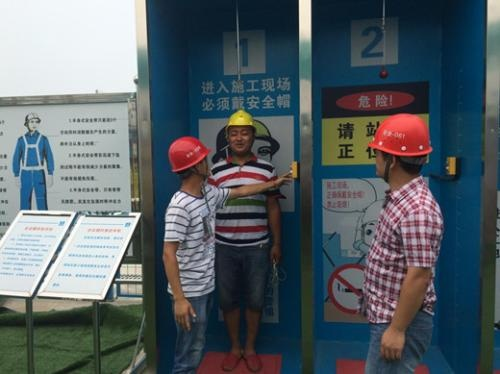red: (370, 113, 434, 184), (166, 135, 212, 185)
yellow: (222, 108, 258, 155)
